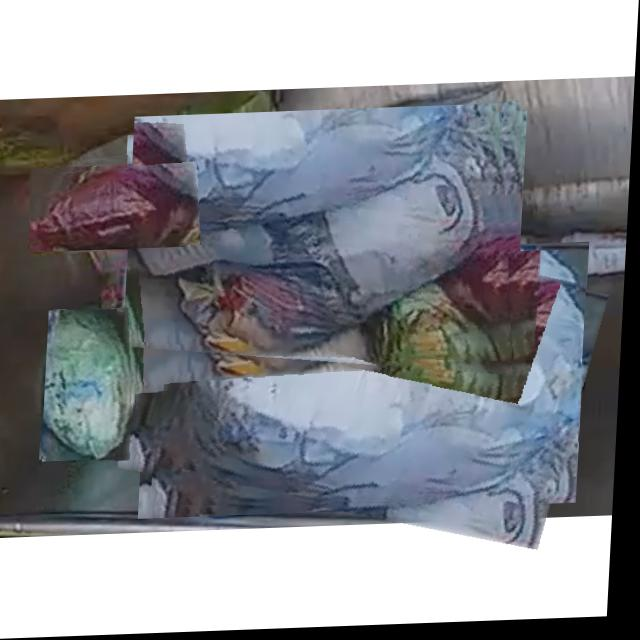general_trashbag: (33, 168, 201, 250), (48, 310, 136, 459)
other_trashbag: (173, 259, 585, 506), (131, 108, 511, 363)
